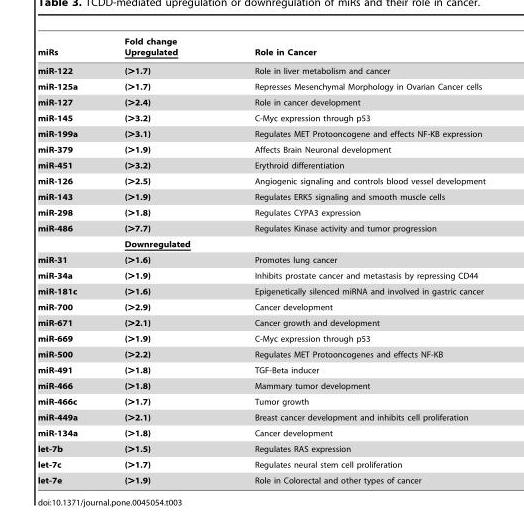table: (37, 36, 484, 484)
table column: (221, 36, 484, 484), (100, 36, 221, 484), (37, 36, 100, 484)
table column header: (37, 36, 484, 61)
table row: (37, 36, 484, 61), (37, 61, 484, 78), (37, 78, 484, 94), (37, 94, 484, 110), (37, 125, 484, 141), (37, 141, 484, 157), (37, 157, 484, 173), (37, 188, 484, 204), (37, 204, 484, 220), (37, 220, 484, 236), (37, 251, 484, 267), (37, 267, 484, 283), (37, 283, 484, 299), (37, 314, 484, 330), (37, 330, 484, 346), (37, 346, 484, 362), (37, 377, 484, 393), (37, 393, 484, 409), (37, 409, 484, 425), (37, 440, 484, 456), (37, 456, 484, 472), (37, 110, 484, 125), (37, 173, 484, 188), (37, 236, 484, 251), (37, 299, 484, 314), (37, 362, 484, 377), (37, 425, 484, 440), (37, 472, 484, 484)
table spanning cell: (37, 220, 100, 251)
